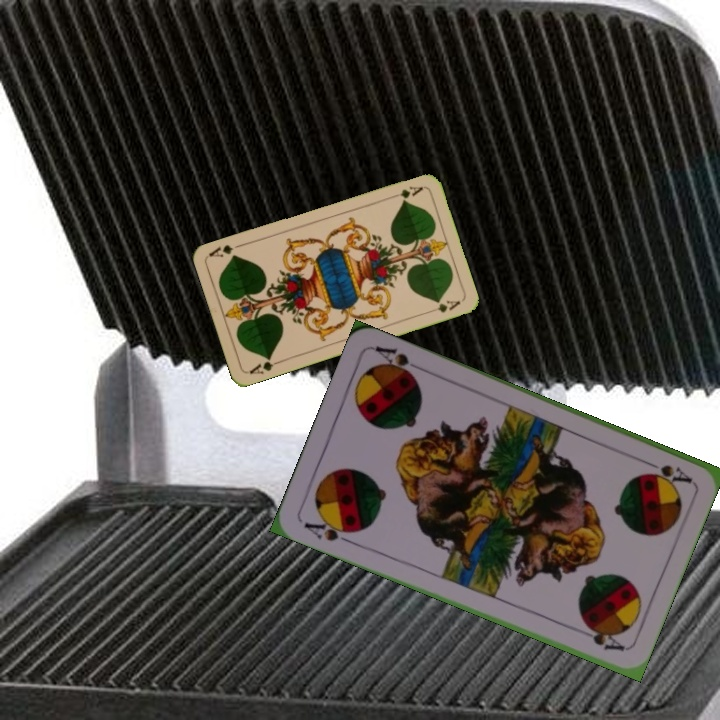GA: (245, 353, 284, 377), (386, 182, 426, 203)
SA: (299, 513, 359, 547), (637, 455, 694, 487)
